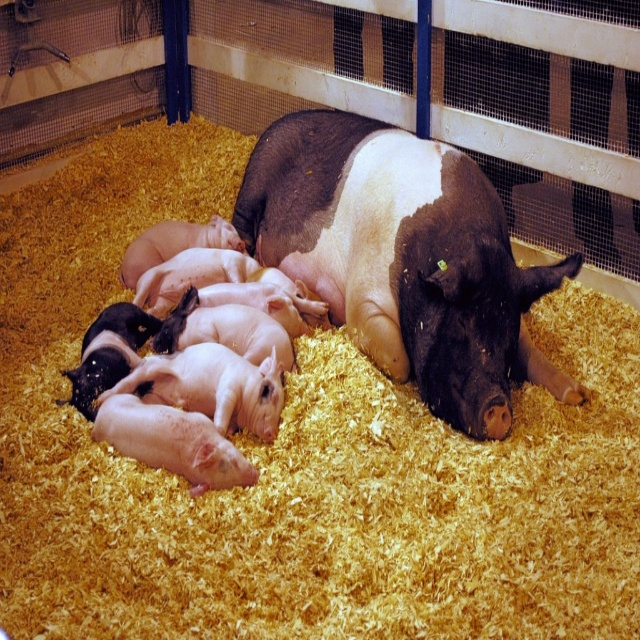Pig: (55, 110, 594, 499)
